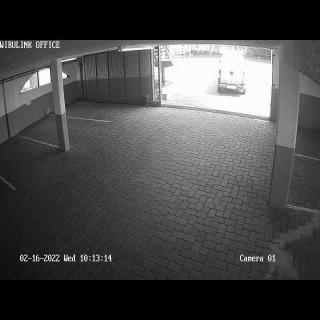car: (218, 51, 246, 92)
